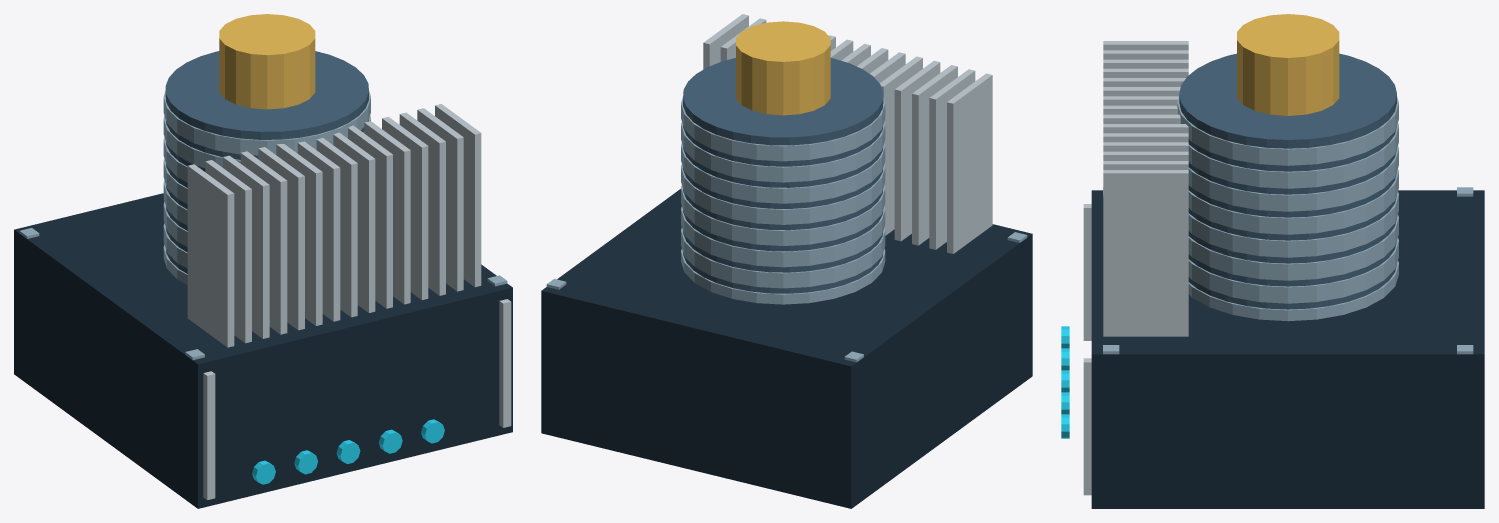
The model's file is 25_L73_PadConditionerMotorDrive.fbx.
3 renders of one model, left to right at view 1: azimuth 30°, elevation 25°; view 2: azimuth 150°, elevation 25°; view 3: azimuth 270°, elevation 25°, orthographic. The views are drawn at different scales.
Visible parts, largest first — view 1: PadConditionerMotorDrive, PadConditionerMotorDrive_Part_0007, PadConditionerMotorDrive_Part_0018, PadConditionerMotorDrive_Part_0017, PadConditionerMotorDrive_Part_0016; view 2: PadConditionerMotorDrive, PadConditionerMotorDrive_Part_0007, PadConditionerMotorDrive_Part_0018, PadConditionerMotorDrive_Part_0015, PadConditionerMotorDrive_Part_0017, PadConditionerMotorDrive_Part_0016, PadConditionerMotorDrive_Part_0011, PadConditionerMotorDrive_Part_0012, PadConditionerMotorDrive_Part_0013, PadConditionerMotorDrive_Part_0014, PadConditionerMotorDrive_Part_0010; view 3: PadConditionerMotorDrive, PadConditionerMotorDrive_Part_0007, PadConditionerMotorDrive_Part_0018, PadConditionerMotorDrive_Part_0017, PadConditionerMotorDrive_Part_0012, PadConditionerMotorDrive_Part_0013, PadConditionerMotorDrive_Part_0015, PadConditionerMotorDrive_Part_0011, PadConditionerMotorDrive_Part_0014, PadConditionerMotorDrive_Part_0016, PadConditionerMotorDrive_Part_0010.
Boxes of the visible parts, <box> form: PadConditionerMotorDrive: <box>14,104,512,508</box>; PadConditionerMotorDrive_Part_0007: <box>165,51,368,273</box>; PadConditionerMotorDrive_Part_0018: <box>219,14,315,109</box>; PadConditionerMotorDrive_Part_0017: <box>163,91,370,155</box>; PadConditionerMotorDrive_Part_0016: <box>163,115,370,168</box>; PadConditionerMotorDrive: <box>541,14,1032,508</box>; PadConditionerMotorDrive_Part_0007: <box>683,58,883,293</box>; PadConditionerMotorDrive_Part_0018: <box>736,21,830,115</box>; PadConditionerMotorDrive_Part_0015: <box>681,143,885,203</box>; PadConditionerMotorDrive_Part_0017: <box>681,97,885,161</box>; PadConditionerMotorDrive_Part_0016: <box>681,121,885,182</box>; PadConditionerMotorDrive_Part_0011: <box>681,227,885,288</box>; PadConditionerMotorDrive_Part_0012: <box>681,206,885,267</box>; PadConditionerMotorDrive_Part_0013: <box>681,185,885,245</box>; PadConditionerMotorDrive_Part_0014: <box>681,164,885,224</box>; PadConditionerMotorDrive_Part_0010: <box>681,248,885,304</box>; PadConditionerMotorDrive: <box>1061,41,1484,508</box>; PadConditionerMotorDrive_Part_0007: <box>1179,53,1396,309</box>; PadConditionerMotorDrive_Part_0018: <box>1237,14,1339,115</box>; PadConditionerMotorDrive_Part_0017: <box>1177,96,1398,165</box>; PadConditionerMotorDrive_Part_0012: <box>1188,215,1398,280</box>; PadConditionerMotorDrive_Part_0013: <box>1188,192,1398,257</box>; PadConditionerMotorDrive_Part_0015: <box>1188,146,1398,211</box>; PadConditionerMotorDrive_Part_0011: <box>1188,238,1398,303</box>; PadConditionerMotorDrive_Part_0014: <box>1188,169,1398,234</box>; PadConditionerMotorDrive_Part_0016: <box>1188,123,1398,188</box>; PadConditionerMotorDrive_Part_0010: <box>1188,261,1398,321</box>.
Size of the model in its own units: 82 by 91.5 by 89.4.
